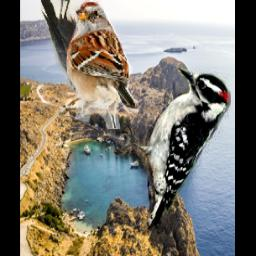Crow: (40, 0, 84, 91)
Sparrow: (66, 1, 138, 130)
Woodpecker: (112, 68, 230, 230)
